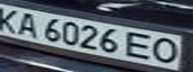0: (57, 19, 81, 47)
2: (78, 22, 103, 52)
6: (100, 26, 127, 55), (39, 16, 63, 43)
A: (12, 10, 42, 38)
E: (124, 30, 160, 61)
K: (0, 4, 24, 34)
O: (148, 36, 184, 65)
